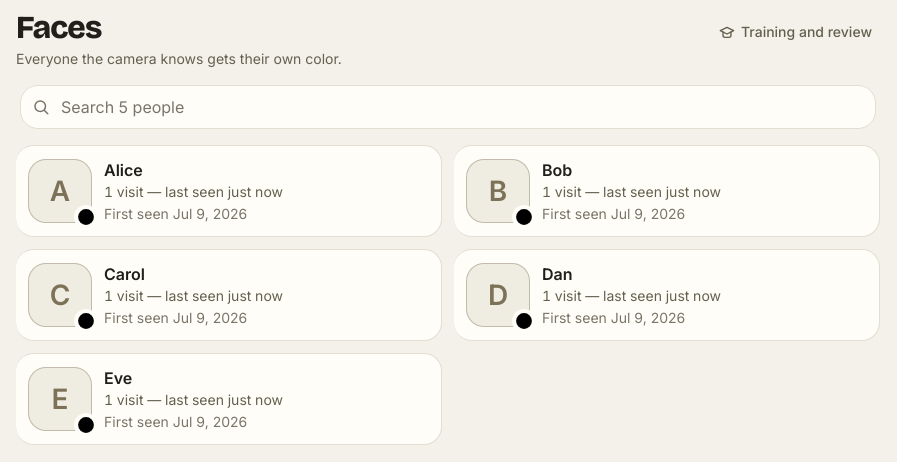
Test case: People page › given a search with no matches, when the input has text, then a "No people match" status hint appears (iter-341)
In the search field named "search people": (448, 107) [20,85,876,129], type "xyz_no_match"
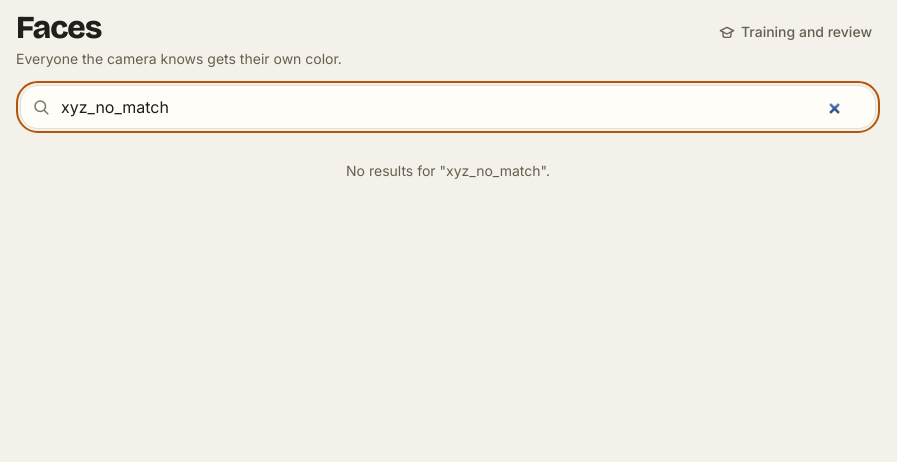
Now the text "No results for \"xyz_no_match\"." is shown, box [346,162,550,179]
Now the button "Alice" is gone
